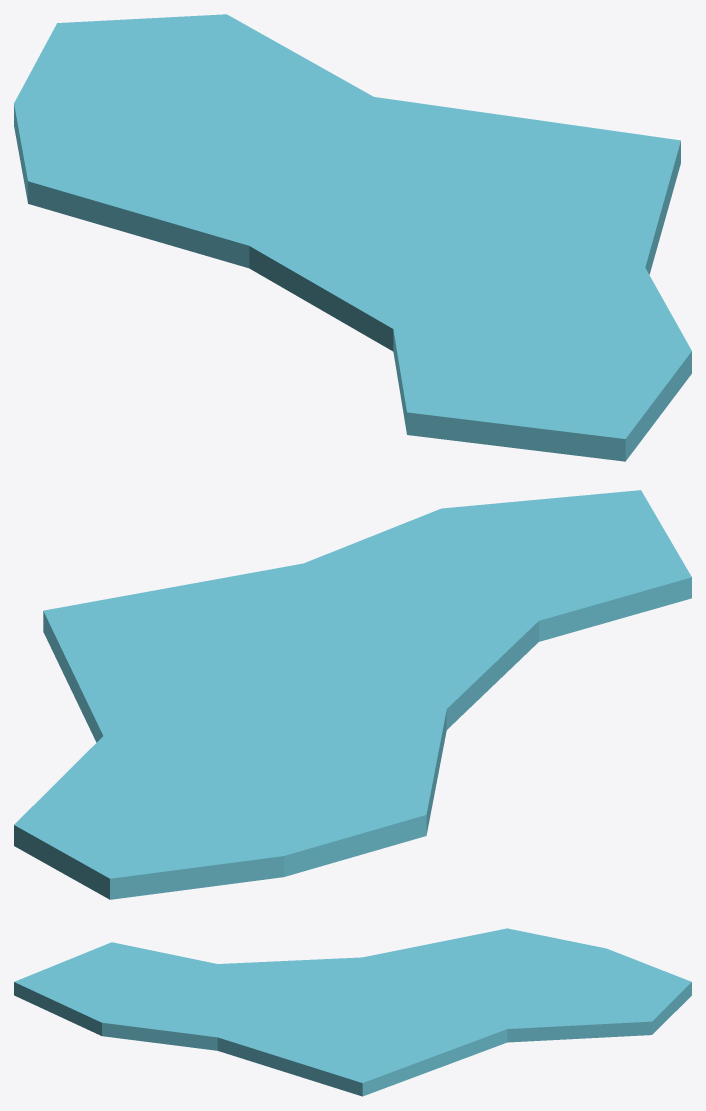
File: Water.fbx
3 renders of one model, top to bottom at view 1: azimuth 30°, elevation 25°; view 2: azimuth 150°, elevation 25°; view 3: azimuth 270°, elevation 25°, orthographic. The views are drawn at different scales.
Parts seen in each view (by area): view 1: Water; view 2: Water; view 3: Water.
Part boxes in pixels (x1,y1,x2,y2): Water: (14,14,691,461); Water: (14,490,691,899); Water: (14,928,691,1096).
Size of the model in its own units: 143 by 5.82 by 265.
